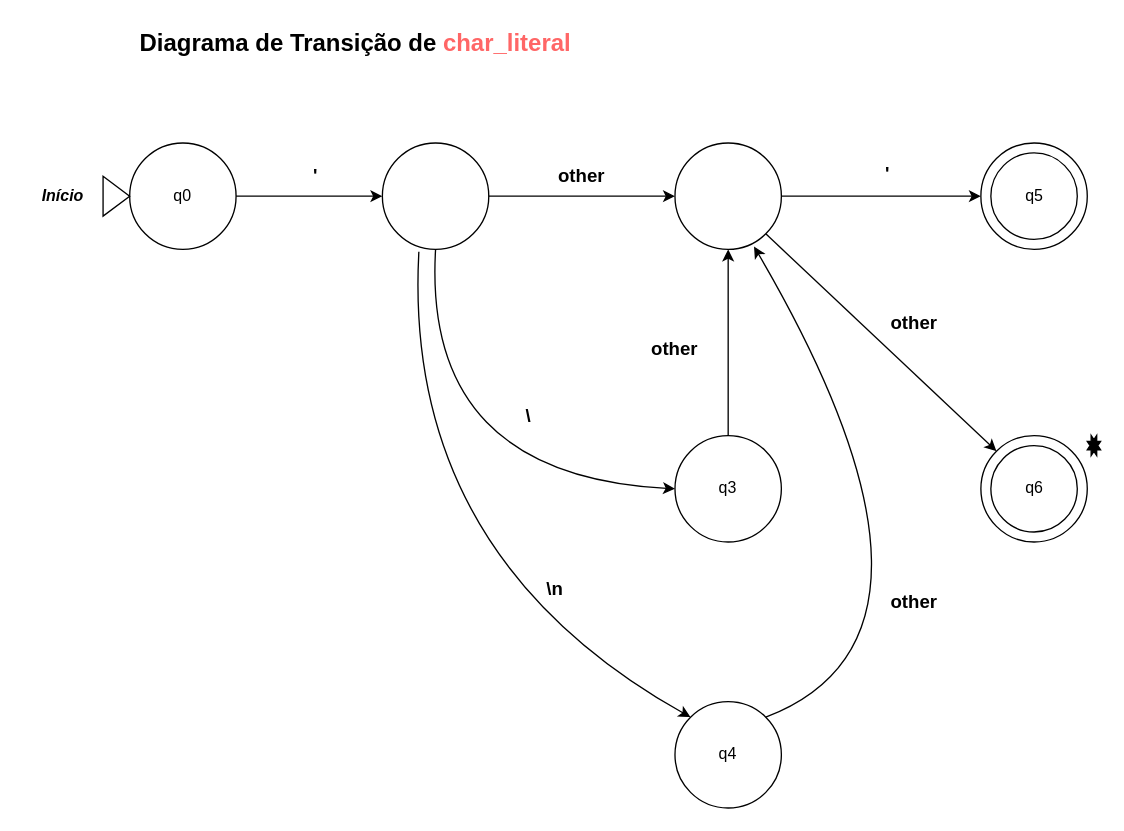
Image size: 1124x831. Some labels were removed from this diagram. Each missing label, with the box of its shape:
q1: (381, 142, 489, 249)
q2: (674, 142, 781, 249)
